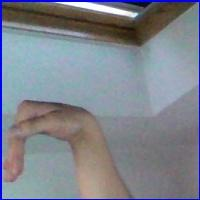del: (5, 98, 92, 185)
